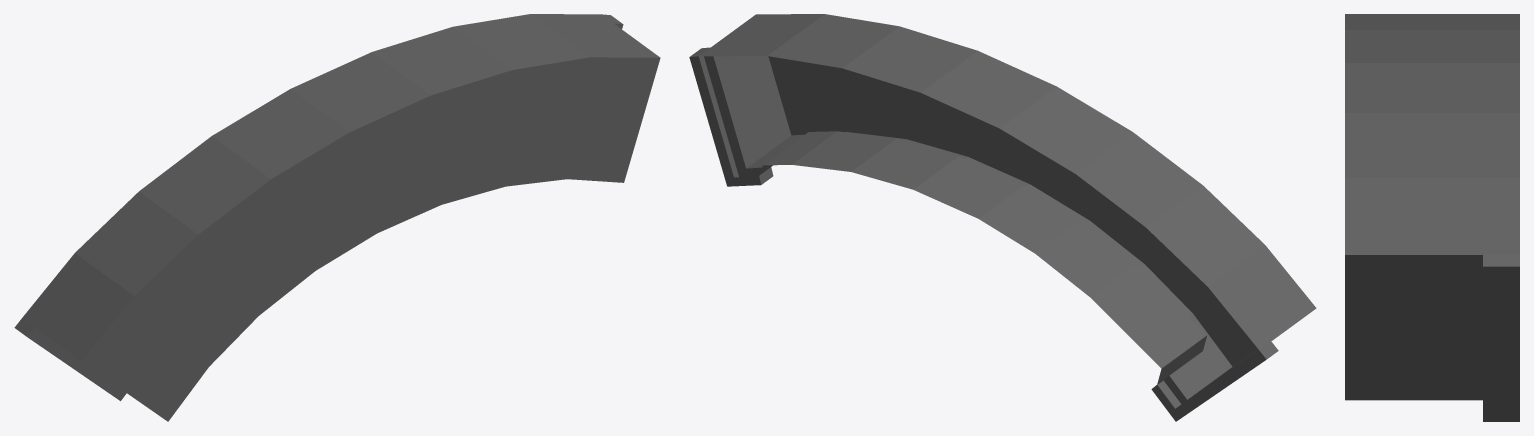
File: juqing_yewai_597_qiangbi.obj
3 views of the same model, side by side, from view 1: azimuth 30°, elevation 25°; view 2: azimuth 150°, elevation 25°; view 3: azimuth 270°, elevation 25° (orthographic). The views are drawn at different scales.
Parts seen in each view (by area): view 1: juqing_yewai_597_qiangbi; view 2: juqing_yewai_597_qiangbi; view 3: juqing_yewai_597_qiangbi.
Part boxes in pixels (<box>): juqing_yewai_597_qiangbi: <box>14,14,660,421</box>; juqing_yewai_597_qiangbi: <box>689,14,1316,421</box>; juqing_yewai_597_qiangbi: <box>1345,14,1519,421</box>.
Size of the model in its own units: 1350 by 609 by 232.
1 material, 1 textured.
